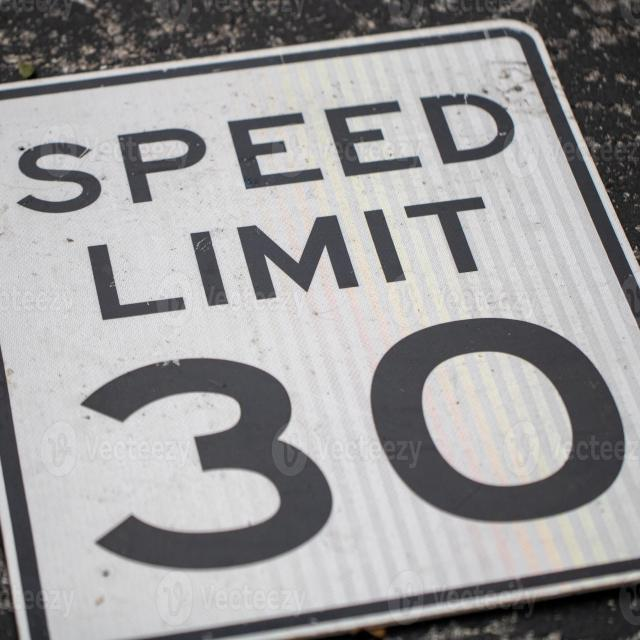speedLimit30: (0, 15, 640, 640)
